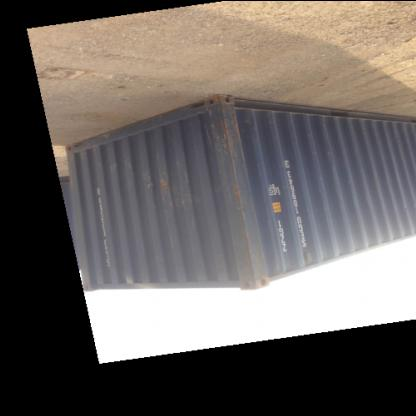Damage: (200, 104, 247, 166), (134, 164, 178, 204), (236, 237, 270, 279), (320, 148, 344, 192)
